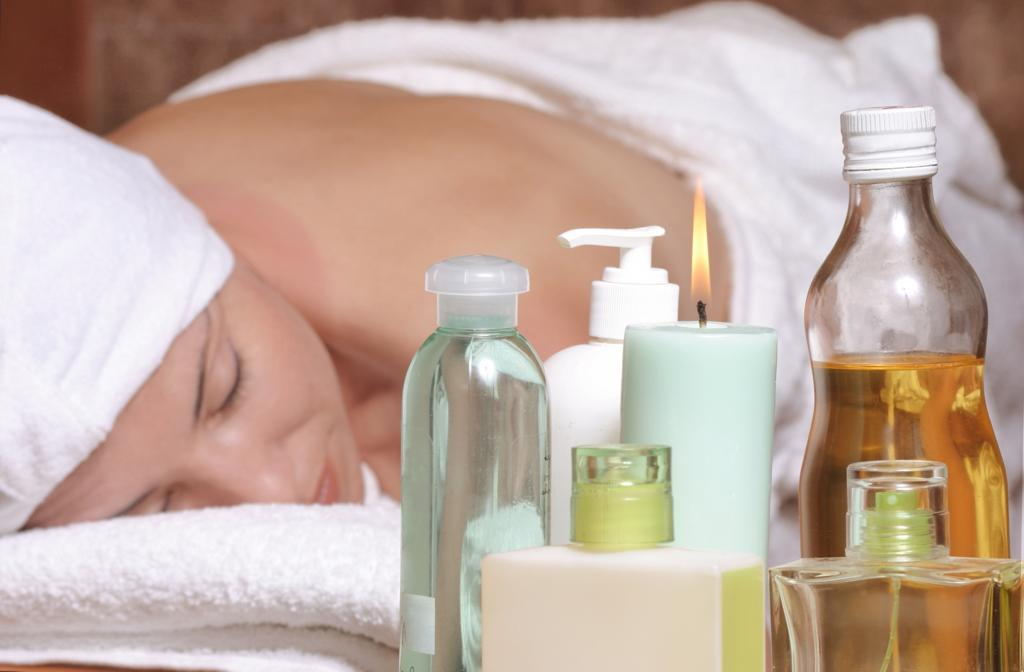face: (57, 325, 363, 537)
